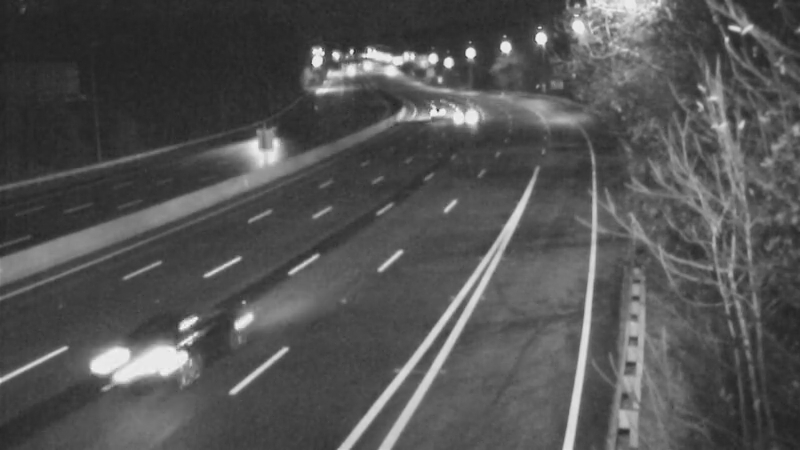vehicle: (111, 300, 221, 410), (363, 47, 413, 97), (406, 88, 456, 138), (440, 90, 490, 140), (234, 115, 284, 165)
